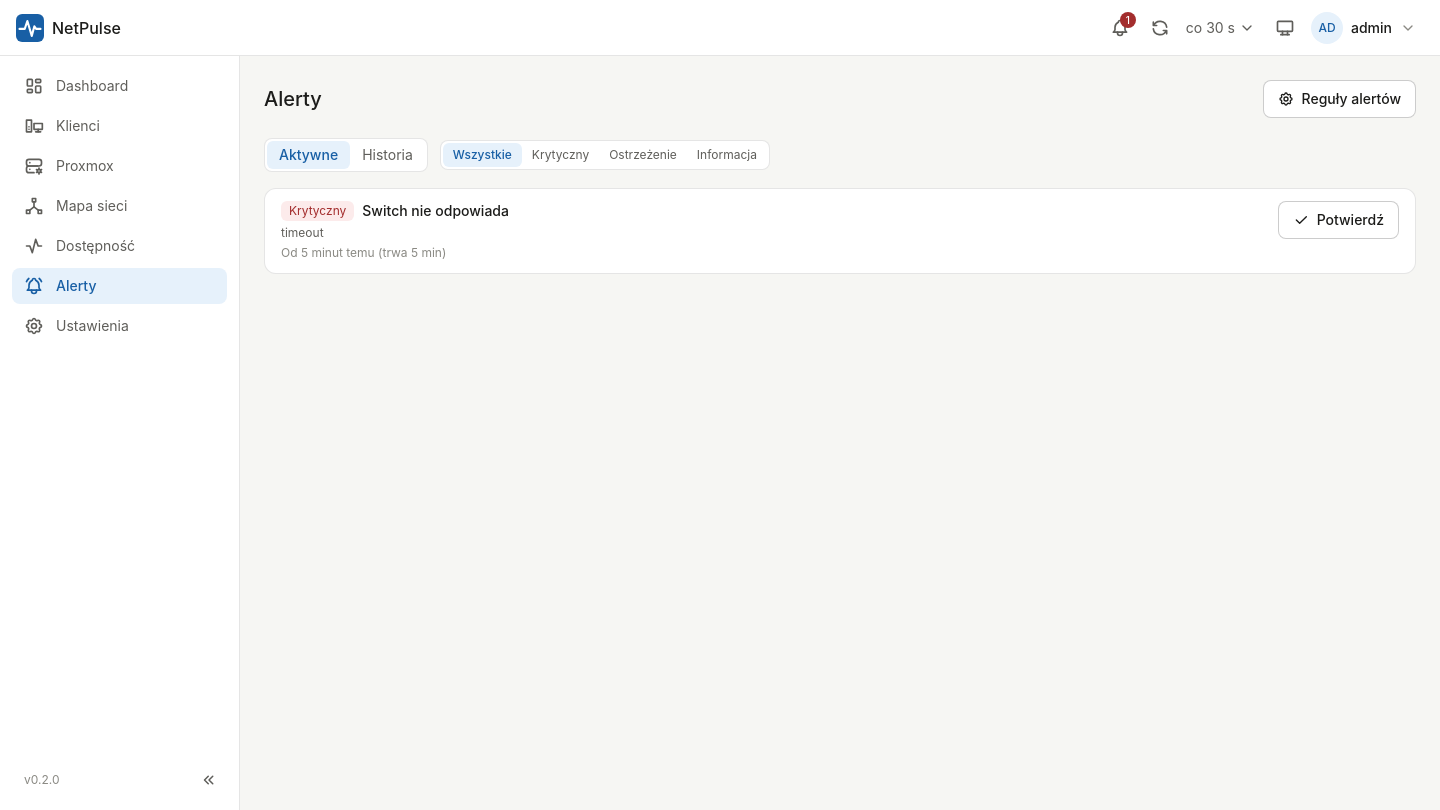
it: strona Alerty › pokazuje aktywne alerty i pozwala je potwierdzić
Expected: the heading "Switch nie odpowiada" is shown, [362,201,509,221]
Click the button "Potwierdź": (1338,220) [1278,201,1399,239]
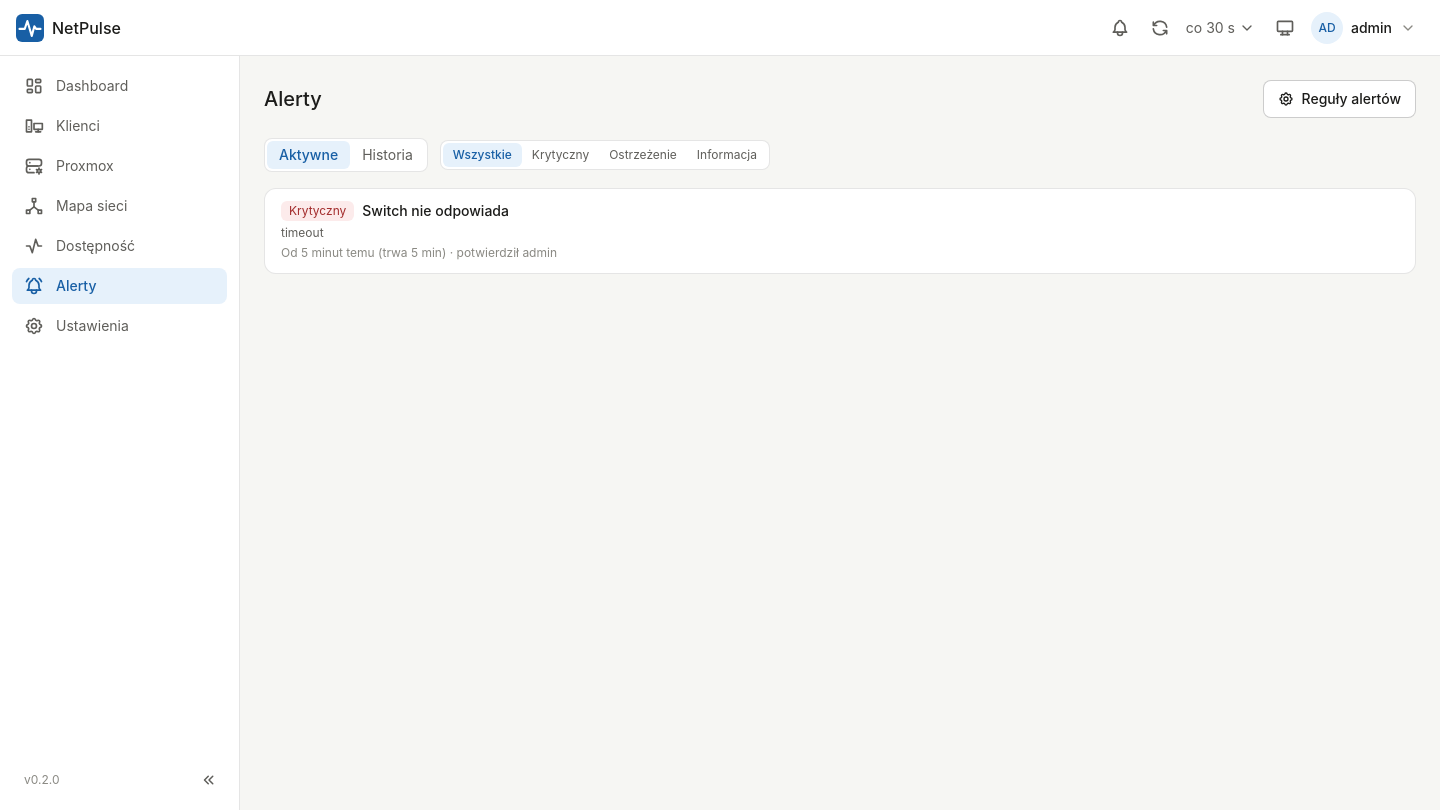
Expected: the text "admin" is shown, [1351,18,1392,38]
Expected: the text "Od 5 minut temu (trwa 5 min) · potwierdził admin" is shown, [281,245,557,260]
Expected: the button "Potwierdź" is gone
